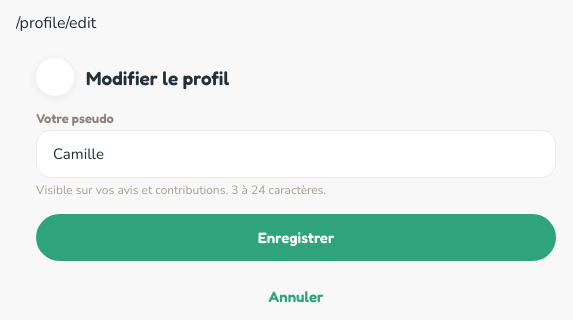
Scenario: EditProfile — modification du pseudo › affiche l'erreur de validation et reste sur l'écran
Replace the text in the field labelled "Votre pseudo" with "x@y" at (296, 154), box left=36, top=130, right=556, bottom=178
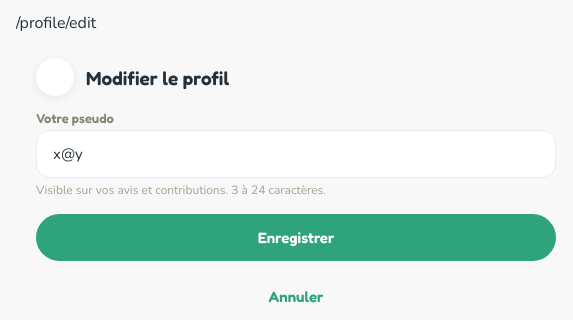
Click the button "Enregistrer" at (296, 238), box left=36, top=214, right=556, bottom=261
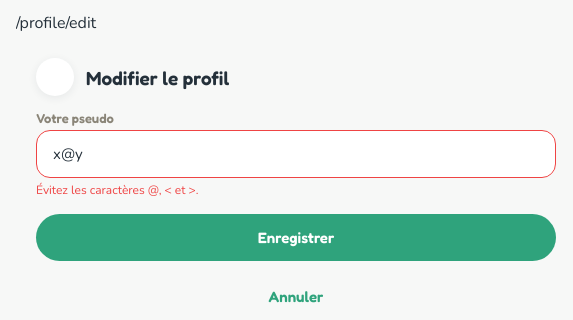
expect the text with test id "loc" reads "/profile/edit": met, box left=16, top=12, right=96, bottom=34
expect the text "Évitez les caractères @, < et >." is shown: met, box left=36, top=182, right=198, bottom=198
